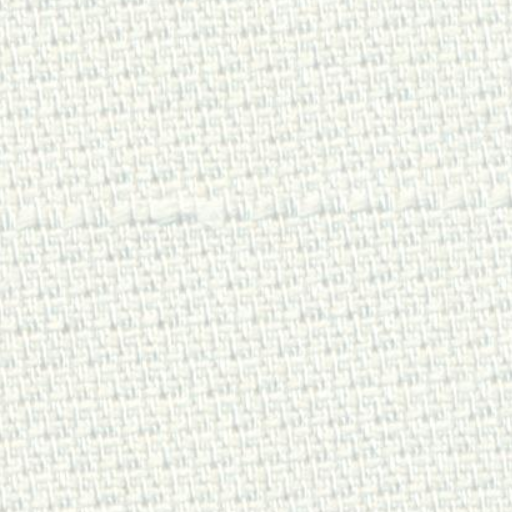TuoSha: (24, 164, 496, 251)
